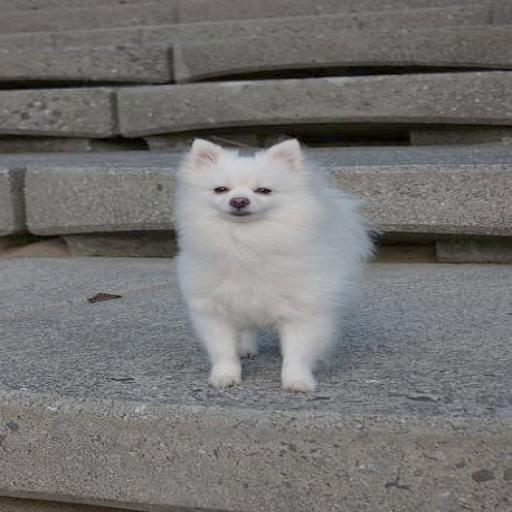dog_face: (184, 134, 305, 224)
